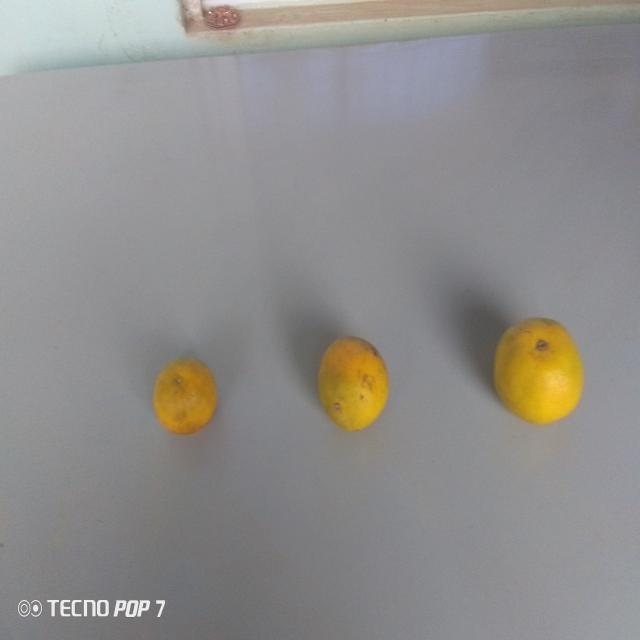Ripe orange: (488, 306, 588, 427), (309, 332, 398, 437), (151, 350, 226, 438)
